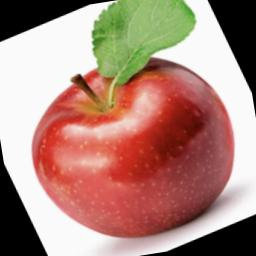Apple Ripe: (10, 33, 256, 256)
